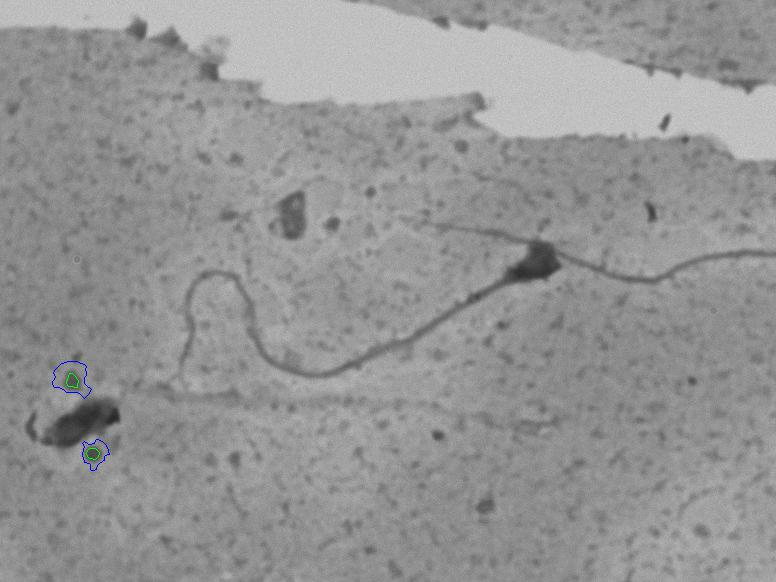Abnormal: (140, 210, 586, 419)
